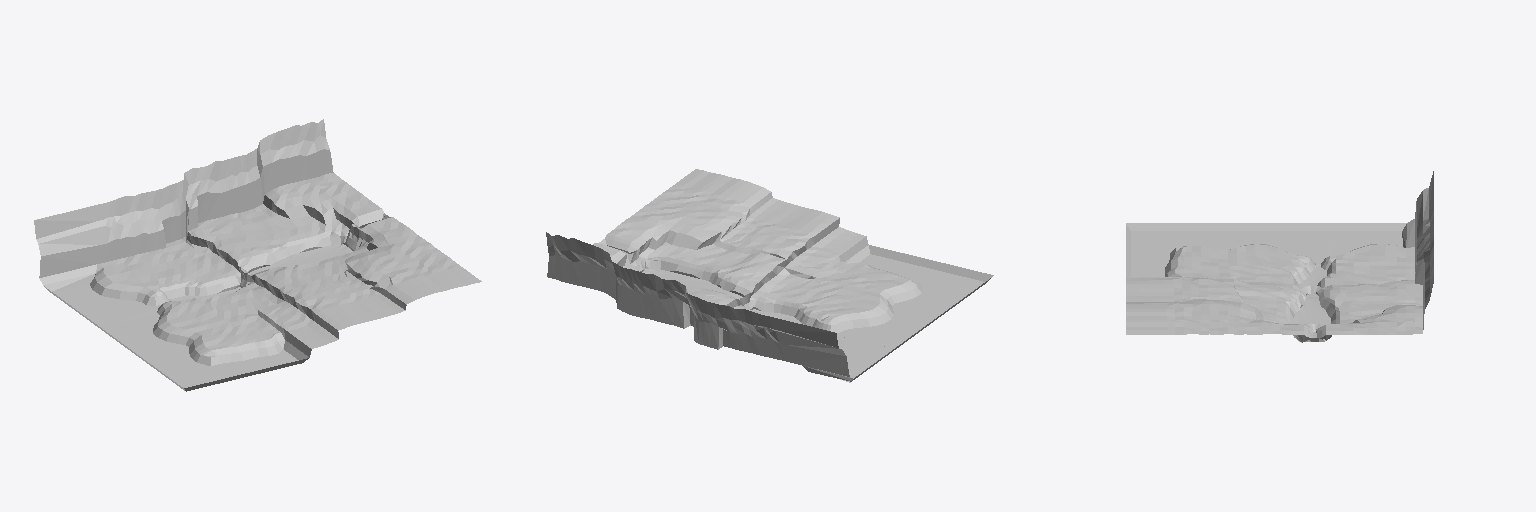
The model's file is map-sink.obj.
3 renders of one model, left to right at view 1: azimuth 30°, elevation 25°; view 2: azimuth 150°, elevation 25°; view 3: azimuth 270°, elevation 25°, orthographic.
Size of the model in its own units: 77.39 by 22.7 by 69.34.